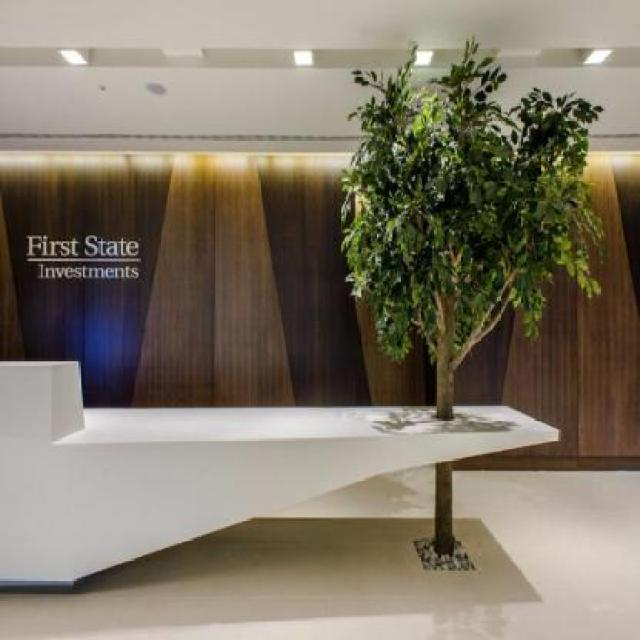frontdesk: (0, 342, 563, 590)
